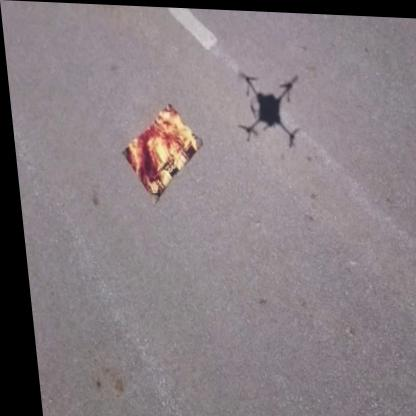fire-poster: (114, 98, 207, 205)
